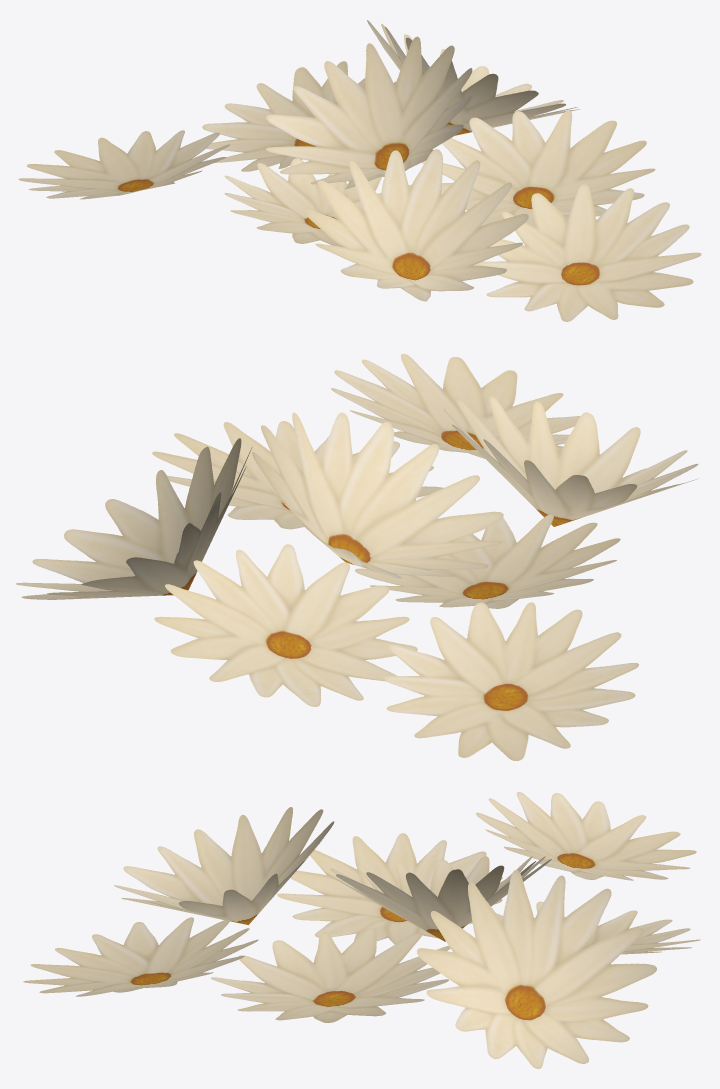
Rendered from SM_Potion_Props_Herb_06.fbx.
3 views of the same model, one above another, from view 1: azimuth 30°, elevation 25°; view 2: azimuth 150°, elevation 25°; view 3: azimuth 270°, elevation 25° (orthographic). The views are drawn at different scales.
Parts seen in each view (by area): view 1: SM_Potion_Props_Herb_06_LOD0; view 2: SM_Potion_Props_Herb_06_LOD0; view 3: SM_Potion_Props_Herb_06_LOD0.
Part boxes in pixels (box(x1,y1,x2,y2)): SM_Potion_Props_Herb_06_LOD0: box(18, 20, 701, 321); SM_Potion_Props_Herb_06_LOD0: box(16, 353, 698, 760); SM_Potion_Props_Herb_06_LOD0: box(23, 792, 700, 1068).
Size of what is drawn, in the model's own units: 21.33 by 4.97 by 24.08.
